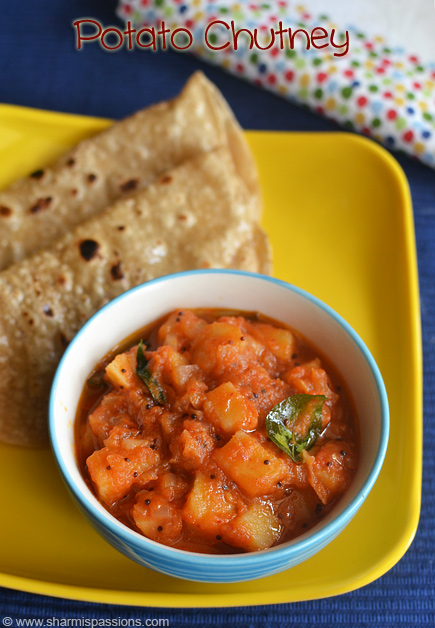curry: (115, 326, 322, 521)
roti: (1, 101, 268, 290)
